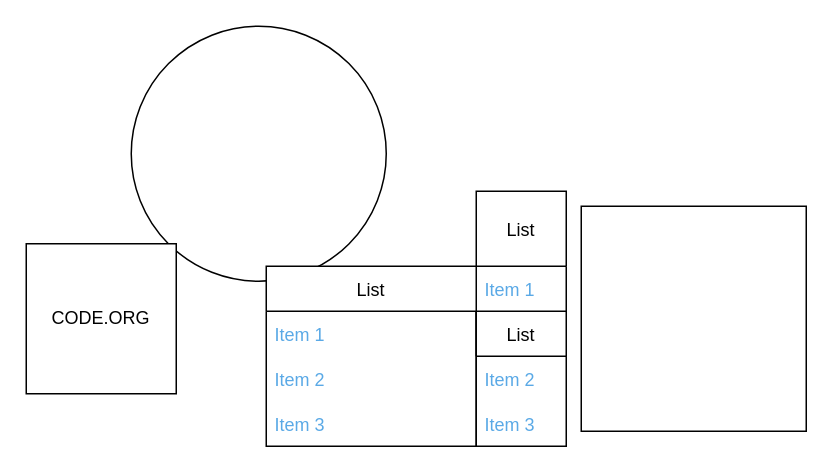
Image size: 833x473. Some labels were removed from this diagram. The centre of each missing label's shape, as x and y in pixels:
"HDMI HDMI 1 HDMI 2 HDMI 3 HDMI 4" belongs at pixel 258 153.
"TEAMVIEWER" belongs at pixel 693 318.
